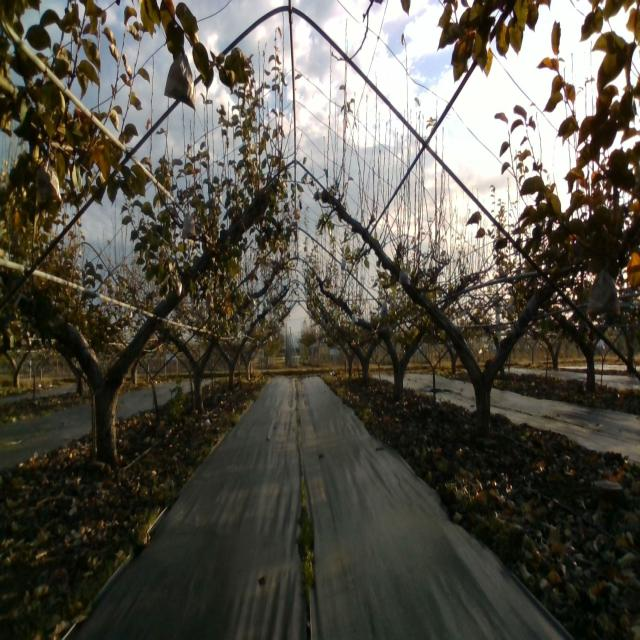pearbags: (164, 47, 196, 112), (586, 264, 620, 317), (38, 164, 62, 204), (181, 211, 196, 238), (399, 266, 411, 285)
